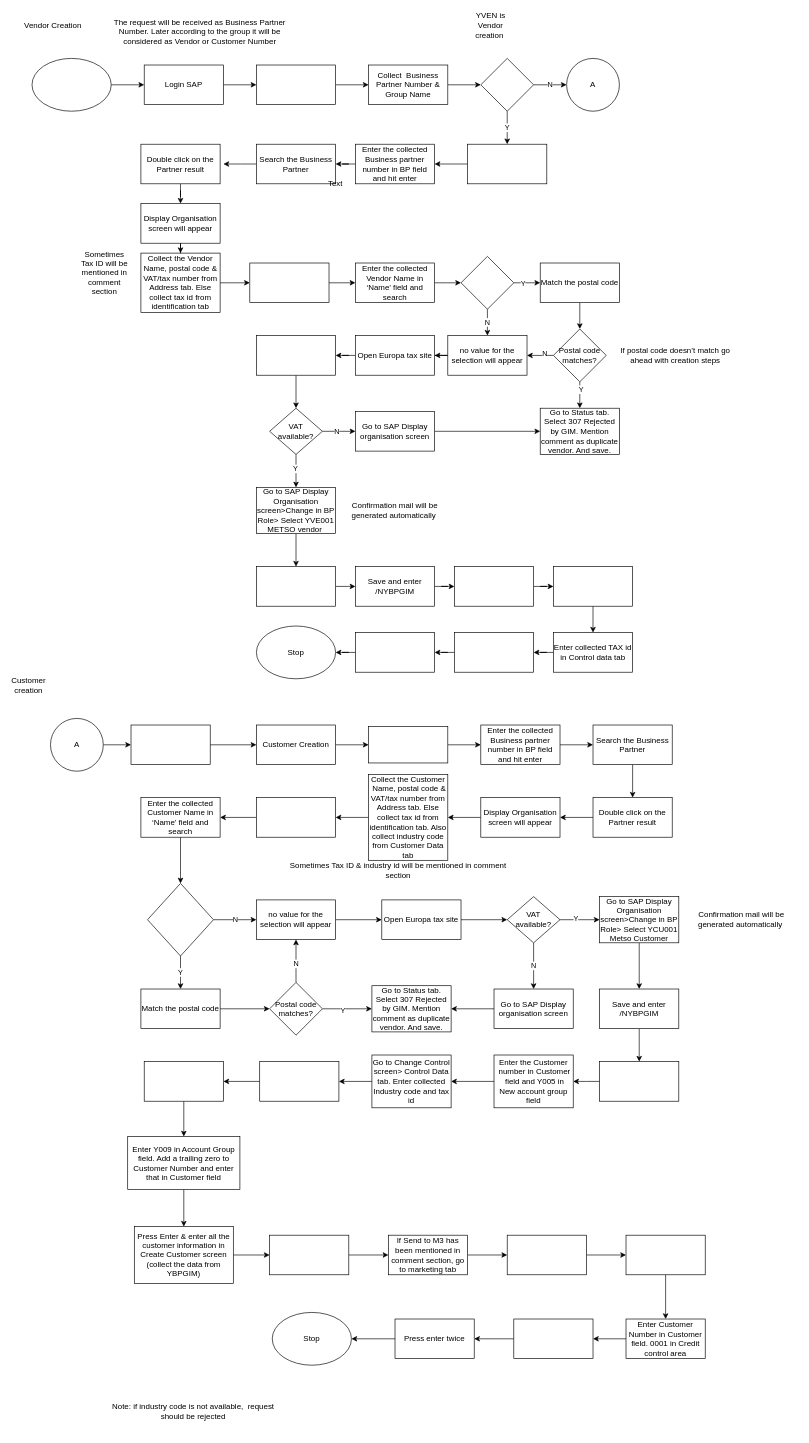
Some shapes in this 809 by 1443 pixel diagram are drawn without their labels. Each missing label, with the box of its shape:
Customer Name found?: (147, 883, 214, 956)
Enter /NXD01 to create account group for Customer: (144, 1061, 223, 1101)
Enter /NXD07 to add the Customer to new account group: (599, 1061, 679, 1101)
Enter /NXK07 to add the vendor to new account group: (454, 566, 534, 606)
Enter Member state and VAT number: (256, 335, 336, 375)
Enter the vendor number in Vendor field and Y005 in New account group field: (553, 566, 633, 606)
Enter VAT number in VAT Reg field.: (454, 632, 534, 672)
Extract YBPREPORT: (256, 64, 336, 105)
Fill all the required fields in address, control data fields: (269, 1235, 349, 1275)
Go to customer class . Select the option according to the comment.: (507, 1235, 586, 1275)
Go to Status tab> Select 306 GIM APPROVED: (256, 566, 336, 606)
Group YVEN?: (480, 58, 534, 111)
Move to YBPGIM screen(/NYBPGIM) for Customer creation: (368, 726, 448, 763)
Move to YBPGIM screen(/NYBPGIM) for Vendor creation: (467, 144, 547, 184)
Open Customer Display screen (/NXDO3): (256, 797, 336, 837)
Open Display Vendor screen (/NKX03): (249, 262, 329, 303)
Save and enter /NFD32: (625, 1235, 705, 1275)
Save the data: (355, 632, 435, 672)
Save the data. Message will pop up. Click ok the Correct sign.: (259, 1061, 339, 1101)
Select the check box ‘status’: (513, 1318, 593, 1359)
Start: (31, 58, 111, 111)
Vendor Name found?: (460, 256, 514, 309)
YCUS group: (130, 724, 210, 765)
